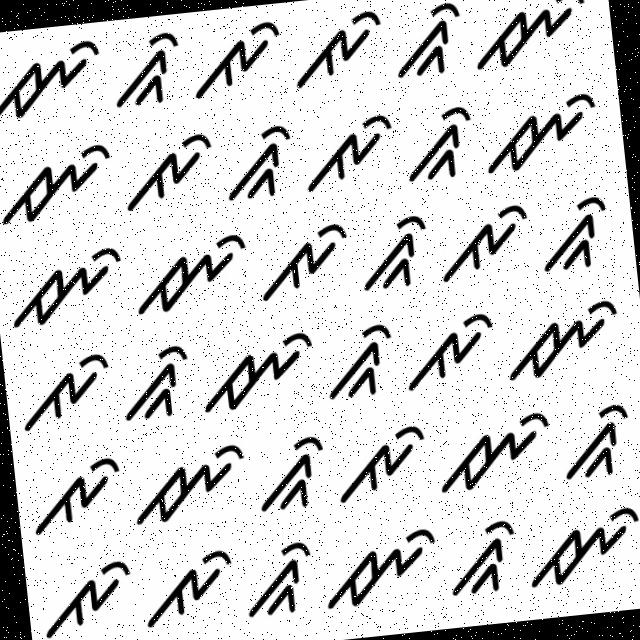ay: (331, 410, 434, 516), (138, 537, 242, 636), (23, 446, 130, 542), (118, 122, 222, 218), (16, 344, 120, 439), (290, 0, 394, 95), (187, 15, 293, 106), (39, 549, 146, 639), (435, 199, 537, 291), (402, 308, 504, 397), (299, 109, 401, 195), (250, 219, 355, 302)
nggay: (398, 95, 481, 197), (352, 208, 439, 305), (116, 339, 202, 434), (250, 429, 333, 527), (105, 22, 190, 114), (217, 120, 300, 214), (534, 190, 618, 282), (443, 516, 528, 606), (320, 317, 404, 408), (554, 399, 639, 486), (389, 0, 471, 87), (243, 538, 322, 626)
njay: (478, 78, 609, 184), (128, 434, 255, 536), (0, 135, 119, 242), (126, 223, 256, 320), (433, 402, 558, 502), (522, 494, 639, 599), (3, 240, 128, 336), (500, 294, 628, 385), (198, 327, 320, 422), (320, 526, 444, 616), (464, 0, 598, 83), (0, 30, 108, 125)
